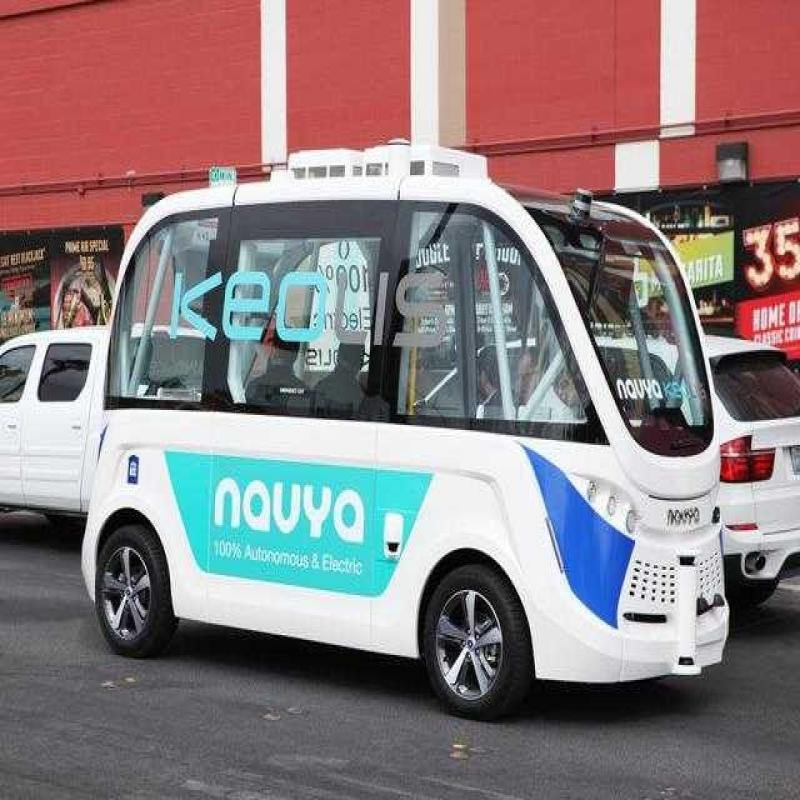bus: (100, 130, 746, 747)
